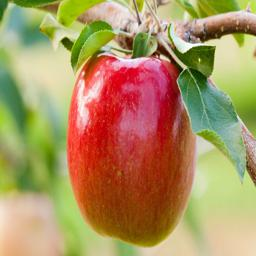Apple Fresh: (68, 38, 205, 246)
